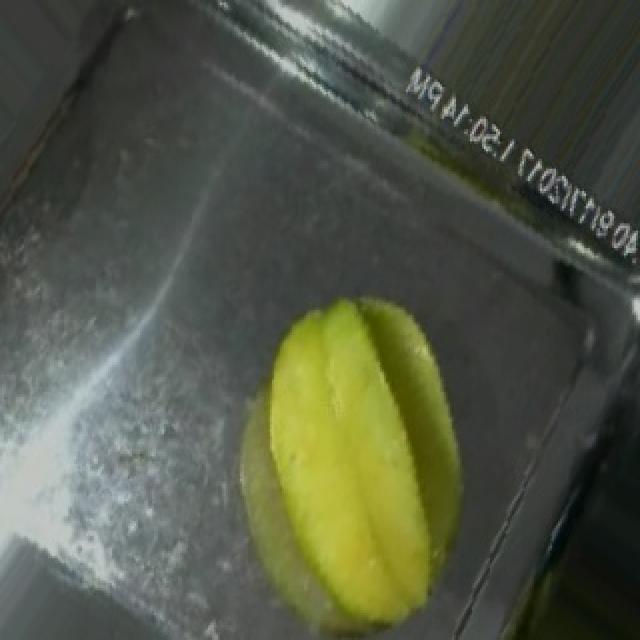fruit: (198, 225, 540, 640)
